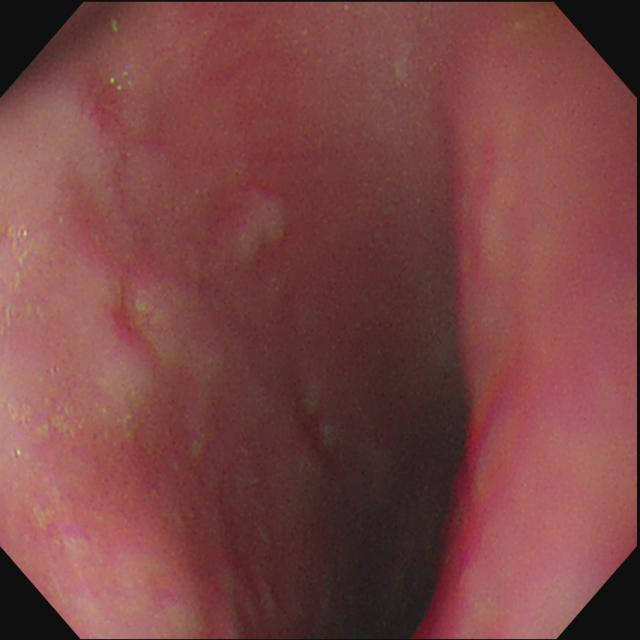E: (304, 343, 484, 640)
J: (6, 96, 287, 473)
